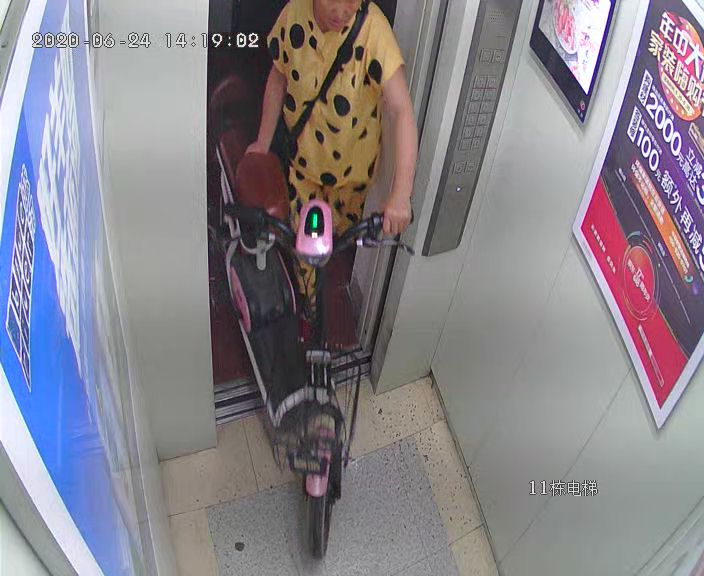Electric-bicycle: (215, 77, 402, 551)
